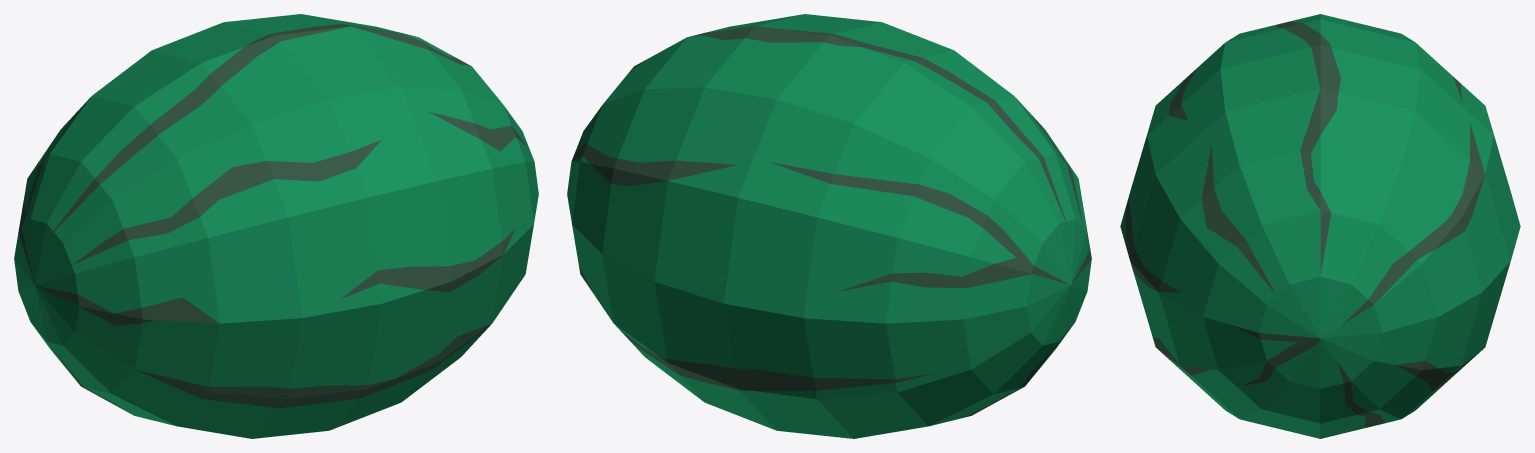
Rendered from watermelon.fbx.
3 views of the same model, side by side, from view 1: azimuth 30°, elevation 25°; view 2: azimuth 150°, elevation 25°; view 3: azimuth 270°, elevation 25° (orthographic). The views are drawn at different scales.
Visible parts, largest first — view 1: watermelon; view 2: watermelon; view 3: watermelon.
Boxes of the visible parts, x1,y1,x2,y2 form: watermelon: (14, 14, 538, 438); watermelon: (567, 14, 1091, 438); watermelon: (1120, 14, 1520, 438).
Size of the model in its own units: 264 by 200 by 200.
